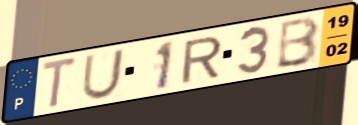1: (153, 38, 176, 91)
3: (235, 23, 273, 76)
B: (273, 14, 322, 71)
R: (179, 34, 225, 86)
T: (40, 54, 80, 111)
U: (79, 47, 127, 102)
